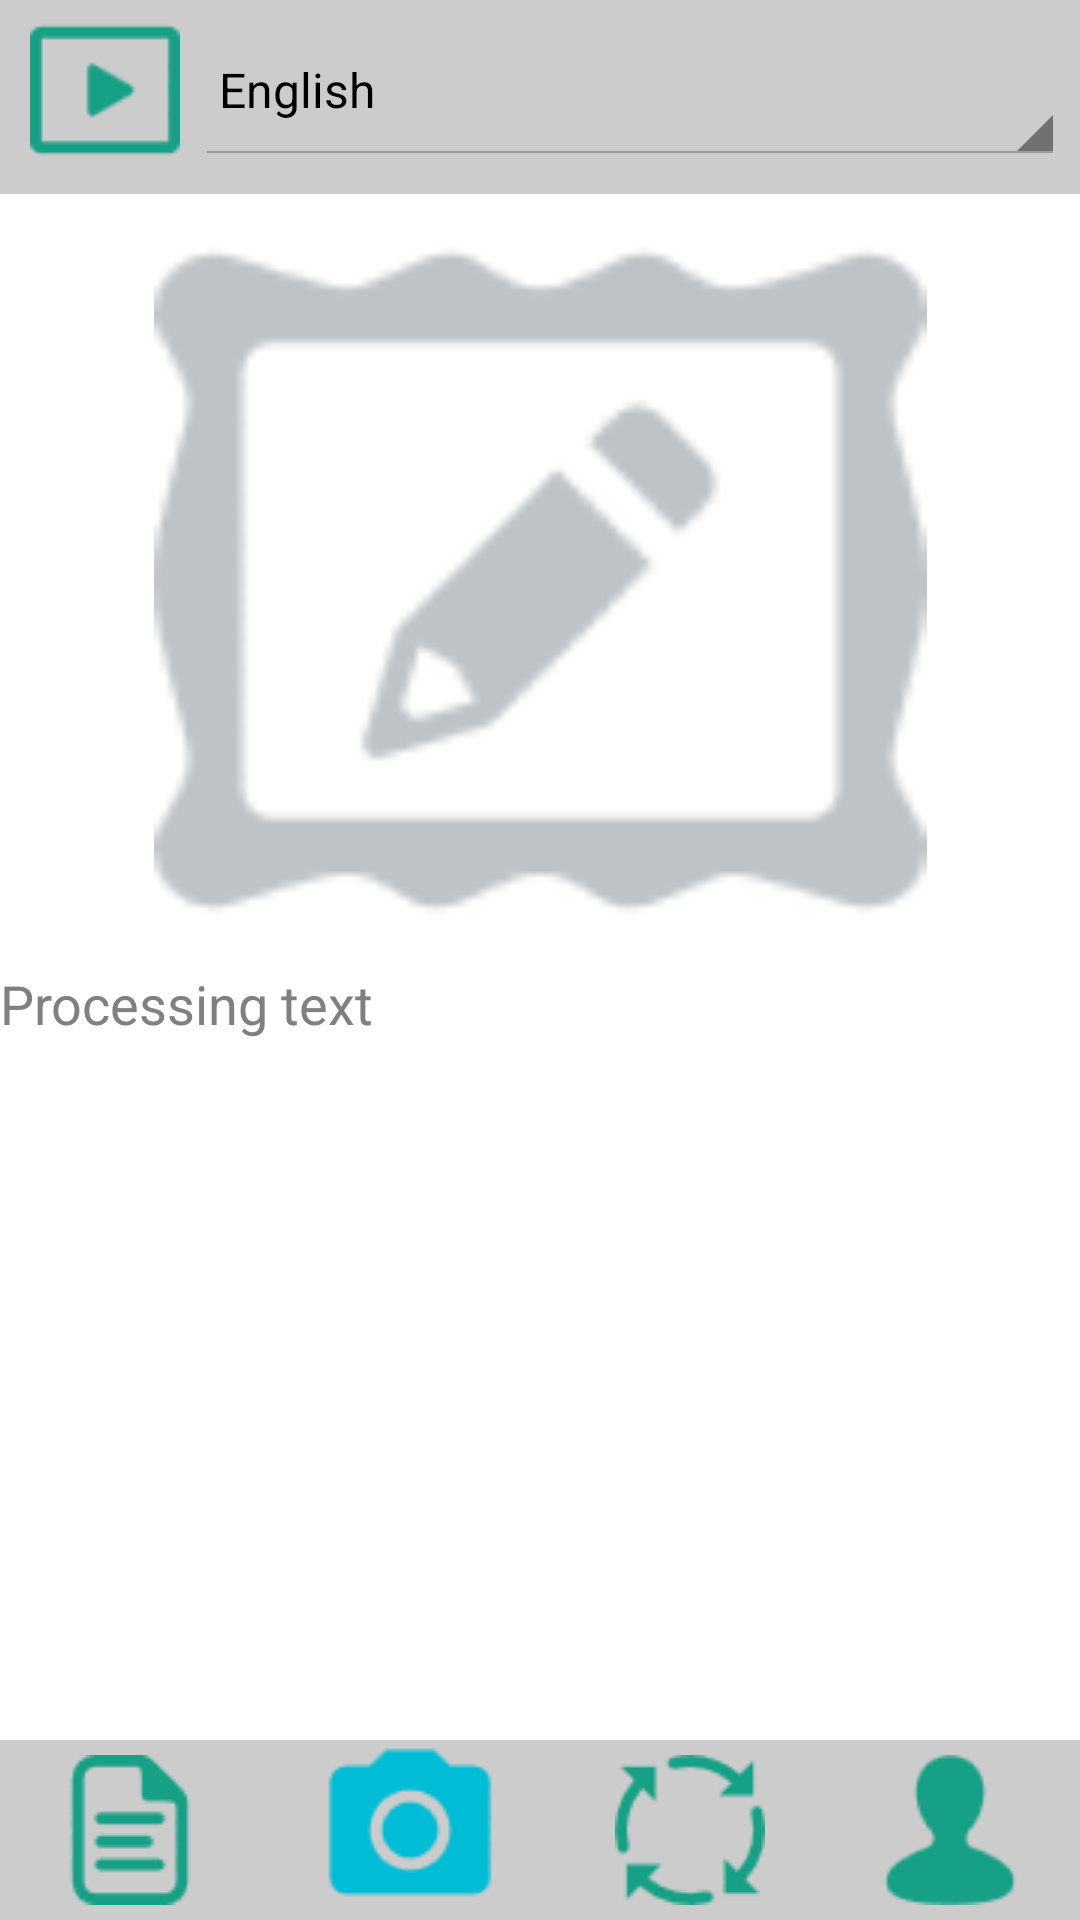

Screen size 1080px x 1920px. Icon name, then its box in pixels as (x1, y1, x2, y2):
camera: (328, 1748, 492, 1897)
documents: (70, 1755, 190, 1905)
process: (615, 1755, 765, 1905)
start: (30, 26, 180, 154)
user: (886, 1755, 1014, 1905)
